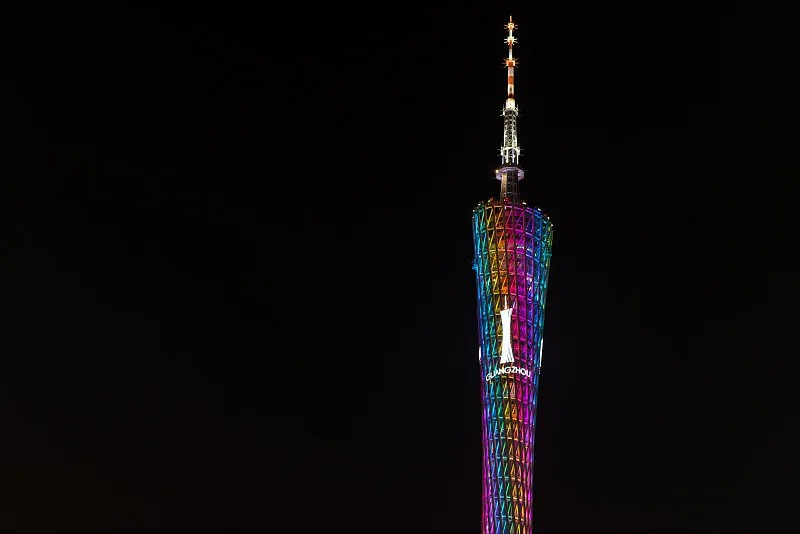Canton: (471, 9, 555, 533)
